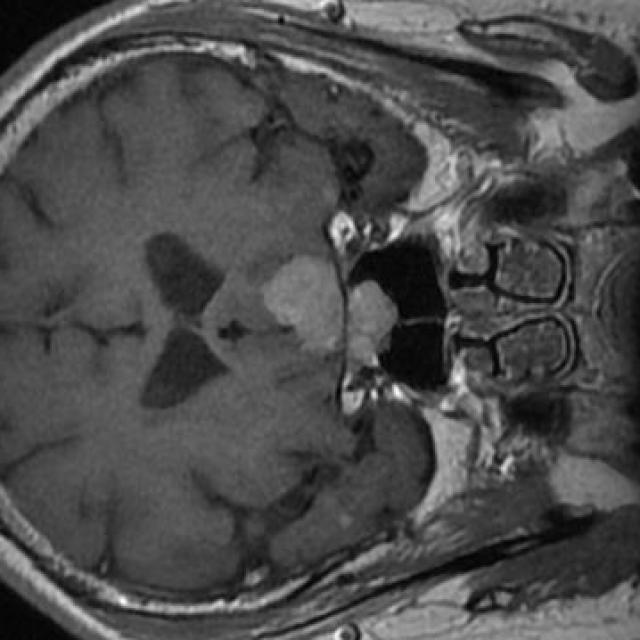pituitary: (264, 255, 399, 362)
